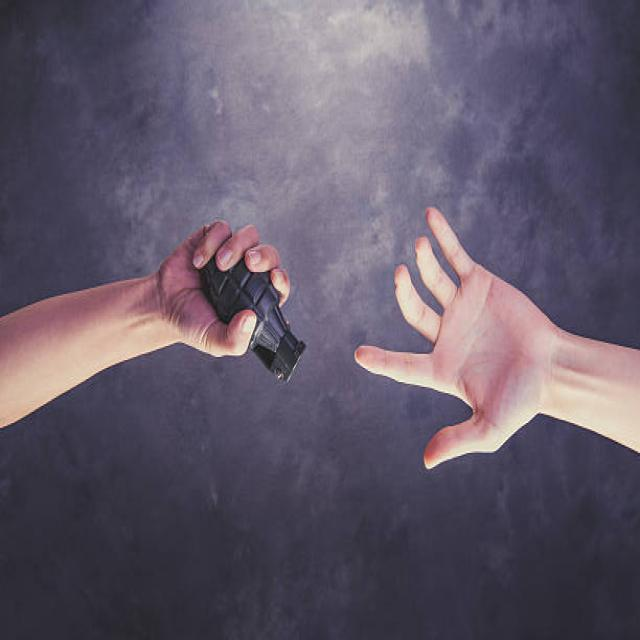grenade: (203, 253, 311, 392)
